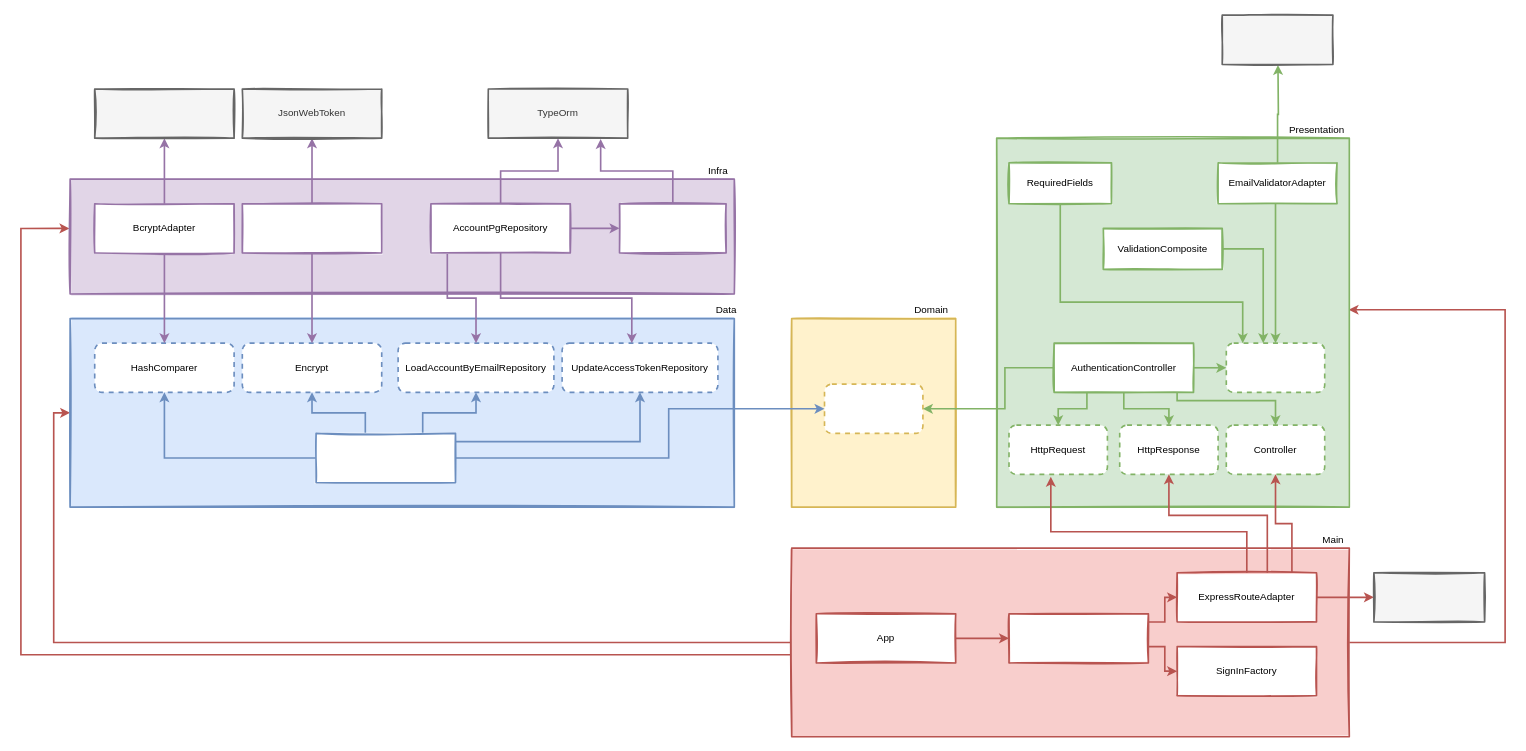
This 1526x751 diagram has some shape labels left out. Here are the shapes that lost their labels. From the top down, the box of each, then its label:
(1221, 14, 1333, 65): Validator
(93, 88, 235, 139): Bcrypt
(241, 203, 382, 253): JwtAdapter
(618, 203, 727, 253): UserEntity
(1225, 342, 1325, 393): Validation
(823, 383, 923, 434): Authentication
(315, 432, 456, 483): AuthenticationService
(1373, 572, 1485, 622): Express
(1008, 613, 1149, 663): SigninRouter
